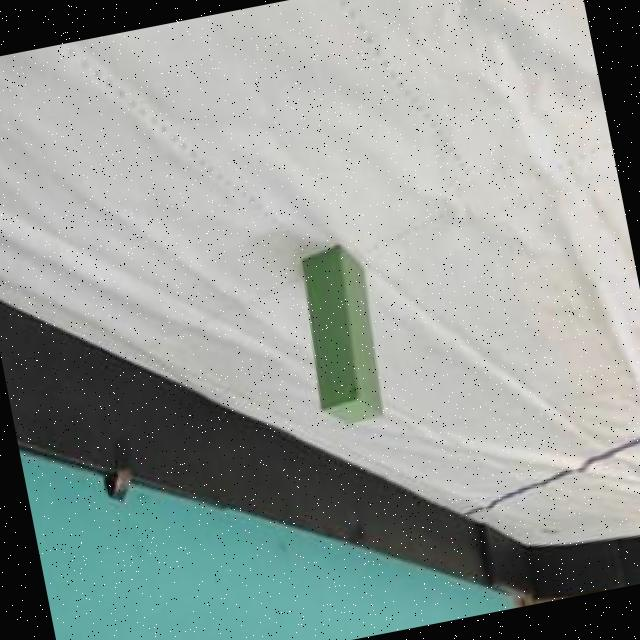greenbox: (289, 239, 396, 432)
